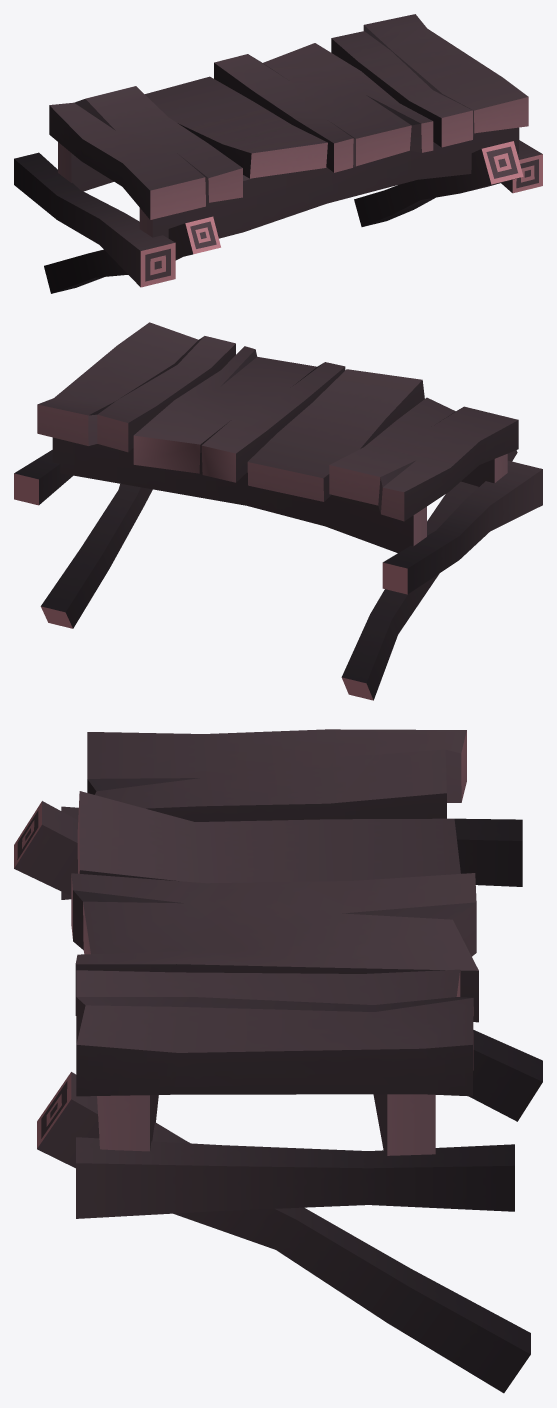
The model's file is undead_scaffolding_1x2_wall_mounted.fbx.
The picture shows the model from 3 angles, top to bottom: view 1: azimuth 30°, elevation 25°; view 2: azimuth 150°, elevation 25°; view 3: azimuth 270°, elevation 25°; orthographic projection. The views are drawn at different scales.
Visible parts, largest first — view 1: undead_scaffolding_1x2_wall_mounted; view 2: undead_scaffolding_1x2_wall_mounted; view 3: undead_scaffolding_1x2_wall_mounted.
Part boxes in pixels (box(x1,y1,x2,y2)): undead_scaffolding_1x2_wall_mounted: box(14, 14, 542, 293); undead_scaffolding_1x2_wall_mounted: box(14, 322, 542, 700); undead_scaffolding_1x2_wall_mounted: box(14, 729, 542, 1393).
Bounding box in the file's own units: 2.13 × 1.09 × 1.37.
